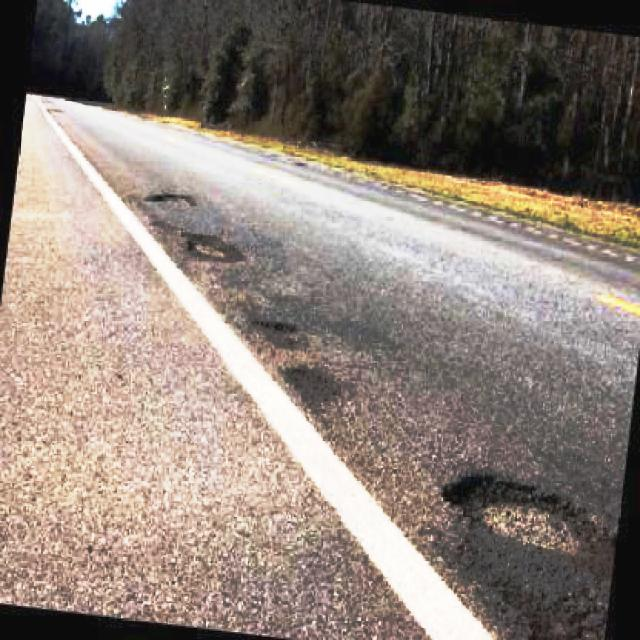pothole: (441, 461, 620, 640), (286, 357, 343, 412), (183, 226, 246, 266), (257, 309, 309, 349), (148, 192, 198, 212)
